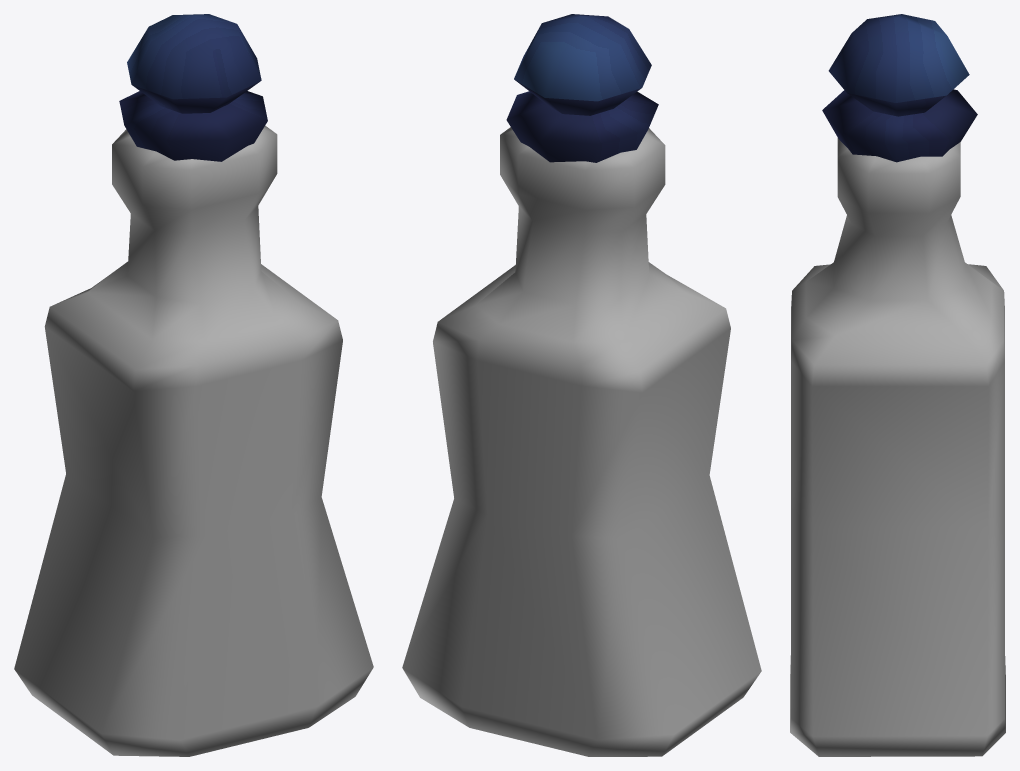
The model's file is Potion4.fbx.
3 views of the same model, side by side, from view 1: azimuth 30°, elevation 25°; view 2: azimuth 150°, elevation 25°; view 3: azimuth 270°, elevation 25° (orthographic).
Parts seen in each view (by area): view 1: Glass5, Extra3; view 2: Glass5, Extra3; view 3: Glass5, Extra3.
Boxes of the visible parts, x1=… form: Glass5: x1=14, y1=125, x2=373, y2=756; Extra3: x1=119, y1=14, x2=267, y2=161; Glass5: x1=402, y1=127, x2=761, y2=756; Extra3: x1=506, y1=14, x2=658, y2=162; Glass5: x1=790, y1=138, x2=1005, y2=756; Extra3: x1=822, y1=14, x2=977, y2=162.
Size of the model in its own units: 0.8591 by 2.09 by 0.5895.
